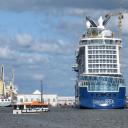cruises: (73, 17, 128, 111)
